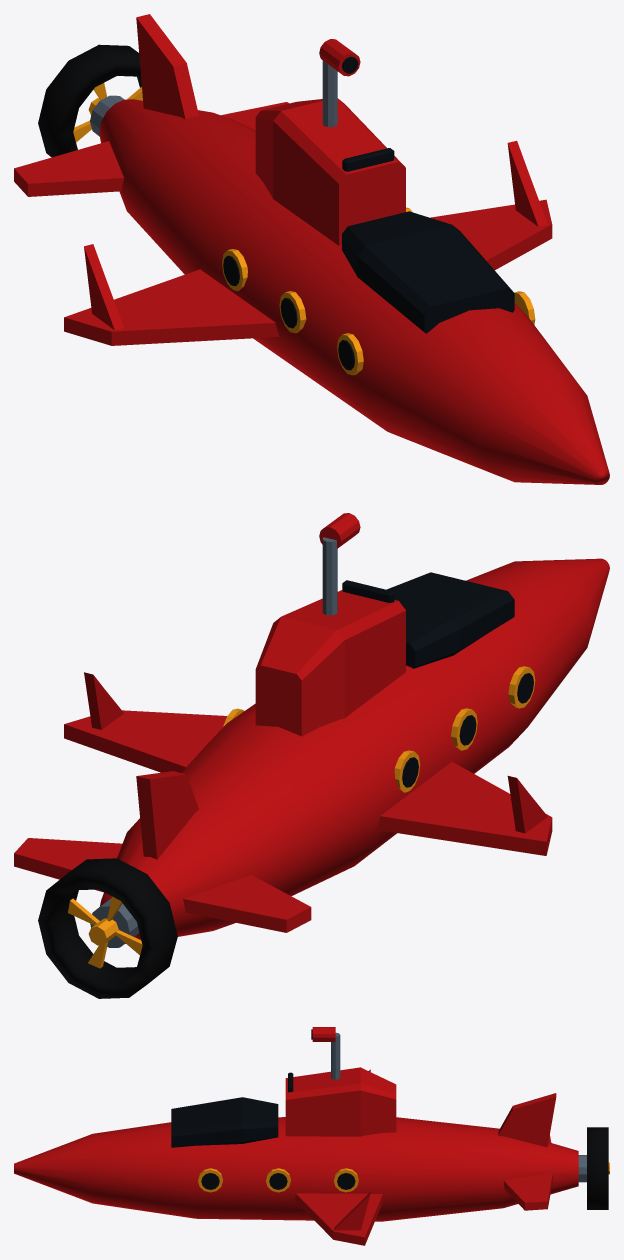
Rendered from cb_submarino.obj.
3 views of the same model, one above another, from view 1: azimuth 30°, elevation 25°; view 2: azimuth 150°, elevation 25°; view 3: azimuth 270°, elevation 25° (orthographic). The views are drawn at different scales.
Parts seen in each view (by area): view 1: cb_submarino; view 2: cb_submarino; view 3: cb_submarino.
Part boxes in pixels (x1,y1,x2,y2): cb_submarino: [14, 14, 609, 484]; cb_submarino: [14, 513, 609, 998]; cb_submarino: [14, 1027, 609, 1245].
Bounding box in the file's own units: 4.6 × 2.89 × 8.34.
